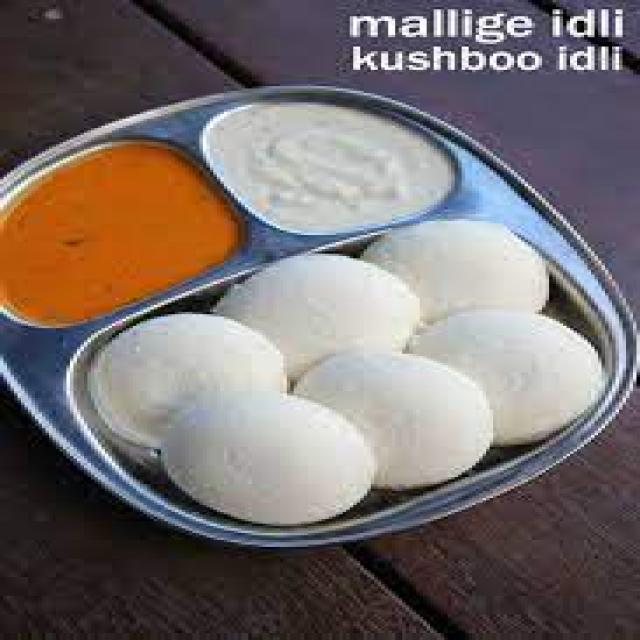Wet Waste: (192, 97, 438, 225), (280, 349, 503, 489), (154, 386, 367, 522), (210, 256, 427, 386), (77, 312, 290, 437), (402, 300, 598, 435), (357, 219, 546, 337)
